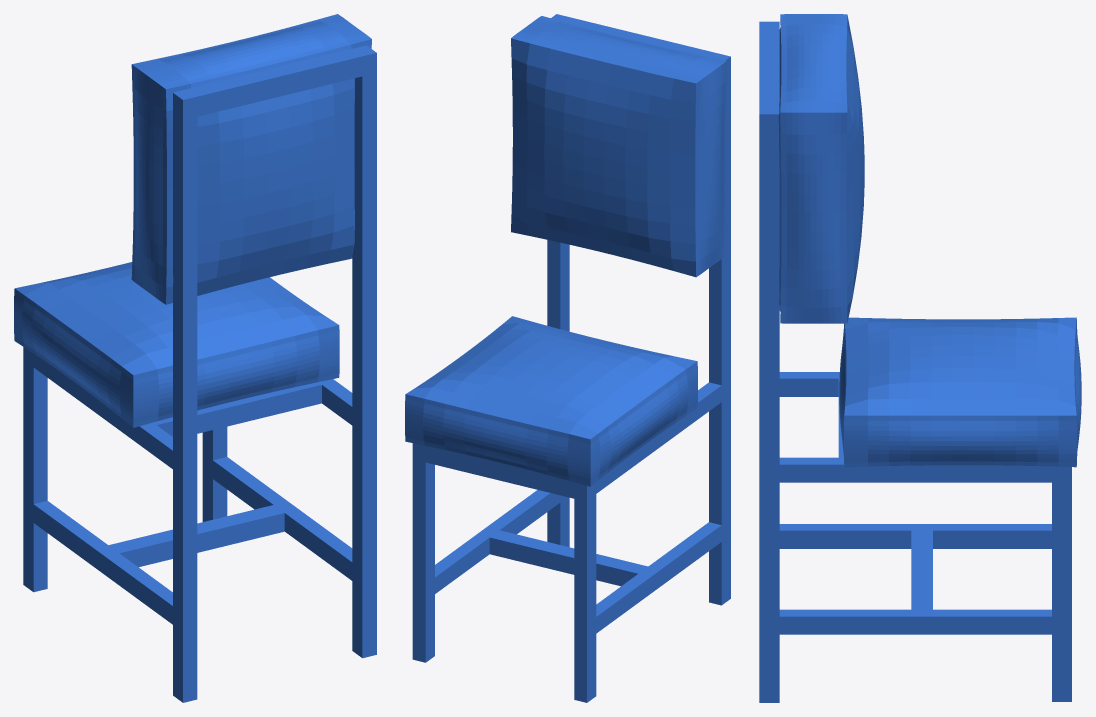
The model's file is tchairblend.gltf.
The picture shows the model from 3 angles, left to right: view 1: azimuth 30°, elevation 25°; view 2: azimuth 150°, elevation 25°; view 3: azimuth 270°, elevation 25°; orthographic projection. The views are drawn at different scales.
Visible parts, largest first — view 1: Node2, Node3, Node1, Node6, Node4, Node5; view 2: Node2, Node1, Node4, Node3, Node6, Node5; view 3: Node1, Node2, Node6, Node3, Node5, Node4.
Boxes of the visible parts, bbox=[...] form: Node2: bbox=[131, 14, 371, 304]; Node3: bbox=[173, 45, 376, 702]; Node1: bbox=[14, 262, 339, 427]; Node6: bbox=[33, 457, 352, 624]; Node4: bbox=[23, 347, 227, 592]; Node5: bbox=[33, 354, 352, 468]; Node2: bbox=[511, 16, 726, 277]; Node1: bbox=[405, 316, 697, 486]; Node4: bbox=[412, 443, 596, 702]; Node3: bbox=[547, 14, 730, 605]; Node6: bbox=[435, 490, 721, 633]; Node5: bbox=[596, 382, 721, 493]; Node1: bbox=[839, 317, 1081, 467]; Node2: bbox=[778, 14, 864, 323]; Node6: bbox=[779, 524, 1052, 634]; Node3: bbox=[759, 21, 779, 702]; Node5: bbox=[779, 372, 1052, 482]; Node4: bbox=[1052, 466, 1071, 701].
Bounding box in the file's own units: 2.09 × 5.67 × 2.76.
